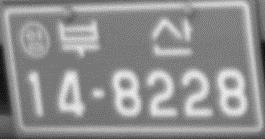-: (88, 84, 107, 100)
1: (24, 67, 49, 119)
2: (181, 67, 216, 120), (145, 68, 179, 117)
4: (54, 68, 87, 119)
8: (216, 67, 247, 117), (112, 68, 142, 118)
부산_D: (56, 15, 195, 58)
영: (18, 21, 51, 59)
